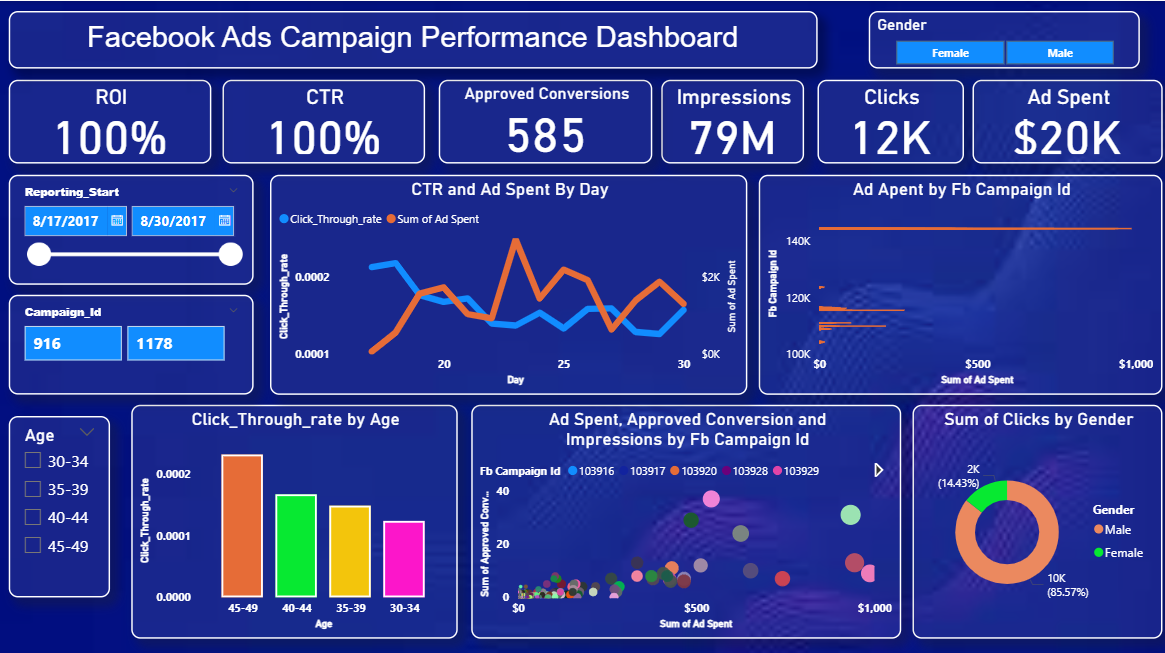

The page's visual inventory and layout, read from the dashboard file:
{"tool":"powerbi","page":{"name":"Page 1","canvas":[1280,720],"ordinal":0},"visuals":[{"type":"card","title":"CTR","fields":{"Values":["data.Click_Through_rate"]},"box":[244.3,86.4,222.3,91.9],"z":0},{"type":"card","title":"Impressions","fields":{"Values":["Sum(data.Impressions)"]},"box":[725.9,86.4,156.4,91.9],"z":1000},{"type":"card","title":"Approved Conversions","fields":{"Values":["Sum(data.Approved Conversion)"]},"box":[481.6,86.4,234.6,91.9],"z":2000},{"type":"card","title":"Clicks","fields":{"Values":["Sum(data.Clicks)"]},"box":[897.4,86.4,160.5,91.9],"z":3000},{"type":"card","title":"ROI","fields":{"Values":["data.Return_ON_Investment"]},"box":[9.6,86.4,222.3,91.9],"z":4000},{"type":"card","title":"Ad Spent","fields":{"Values":["Sum(data.Ad Spent)"]},"box":[1067.6,86.4,208.6,91.9],"z":5000},{"type":"clusteredBarChart","title":"Ad Apent by Fb Campaign Id","fields":{"Category":["data.Fb Campaign Id"],"Y":["Sum(data.Ad Spent)"]},"box":[832.9,190.7,443.2,241.5],"z":6000},{"type":"columnChart","fields":{"Category":["data.Age"],"Y":["data.Click_Through_rate"]},"box":[144.1,443.2,358.1,256.6],"z":7000},{"type":"donutChart","fields":{"Category":["data.Gender"],"Y":["Sum(data.Clicks)"]},"box":[1001.7,443.2,274.4,256.6],"z":8000},{"type":"scatterChart","title":" Ad Spent, Approved Conversion and Impressions by Fb Campaign Id","fields":{"Series":["data.Fb Campaign Id"],"Size":["Sum(data.Impressions)"],"X":["Sum(data.Ad Spent)"],"Y":["Sum(data.Approved Conversion)"]},"box":[517.3,443.2,472,256.6],"z":9000},{"type":"lineChart","title":"CTR and Ad Spent By Day","fields":{"Category":["data.Reporting_Start.Variation.Date Hierarchy.Day"],"Y":["data.Click_Through_rate"],"Y2":["Sum(data.Ad Spent)"]},"box":[296.4,190.7,524.2,241.5],"z":10000},{"type":"slicer","fields":{"Values":["data.Reporting_Start"]},"box":[9.6,190.7,269,120.8],"z":11000},{"type":"slicer","fields":{"Values":["data.Age"]},"box":[9.6,455.6,111.1,199],"z":12000},{"type":"slicer","title":"Gender","fields":{"Values":["data.Gender"]},"box":[953.7,11,297.8,63.1],"z":13000},{"type":"slicer","fields":{"Values":["data.Campaign_Id"]},"box":[9.6,322.5,269,109.8],"z":14000},{"type":"textbox","box":[9.6,11,887.8,63.1],"z":15000}]}

Visuals, with their boxes in screenshot pixels (x1, y1, x2, y2), scaled from the page's 1280x720 canvas onto the 1165x653 screenshot:
"CTR" card: {"x1": 222, "y1": 78, "x2": 425, "y2": 162}
"Impressions" card: {"x1": 661, "y1": 78, "x2": 803, "y2": 162}
"Approved Conversions" card: {"x1": 438, "y1": 78, "x2": 652, "y2": 162}
"Clicks" card: {"x1": 817, "y1": 78, "x2": 963, "y2": 162}
"ROI" card: {"x1": 9, "y1": 78, "x2": 211, "y2": 162}
"Ad Spent" card: {"x1": 972, "y1": 78, "x2": 1162, "y2": 162}
"Ad Apent by Fb Campaign Id" clusteredBarChart: {"x1": 758, "y1": 173, "x2": 1161, "y2": 392}
columnChart - data.Age x data.Click_Through_rate: {"x1": 131, "y1": 402, "x2": 457, "y2": 635}
donutChart - data.Gender x Sum(data.Clicks): {"x1": 912, "y1": 402, "x2": 1161, "y2": 635}
" Ad Spent, Approved Conversion and Impressions by Fb Campaign Id" scatterChart: {"x1": 471, "y1": 402, "x2": 900, "y2": 635}
"CTR and Ad Spent By Day" lineChart: {"x1": 270, "y1": 173, "x2": 747, "y2": 392}
slicer - data.Reporting_Start: {"x1": 9, "y1": 173, "x2": 254, "y2": 283}
slicer - data.Age: {"x1": 9, "y1": 413, "x2": 110, "y2": 594}
"Gender" slicer: {"x1": 868, "y1": 10, "x2": 1139, "y2": 67}
slicer - data.Campaign_Id: {"x1": 9, "y1": 292, "x2": 254, "y2": 392}
textbox: {"x1": 9, "y1": 10, "x2": 817, "y2": 67}
